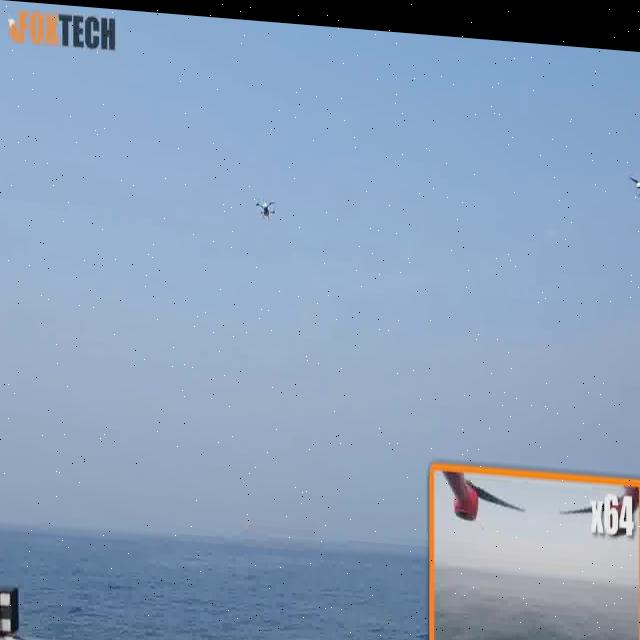drone: (248, 177, 287, 231)
